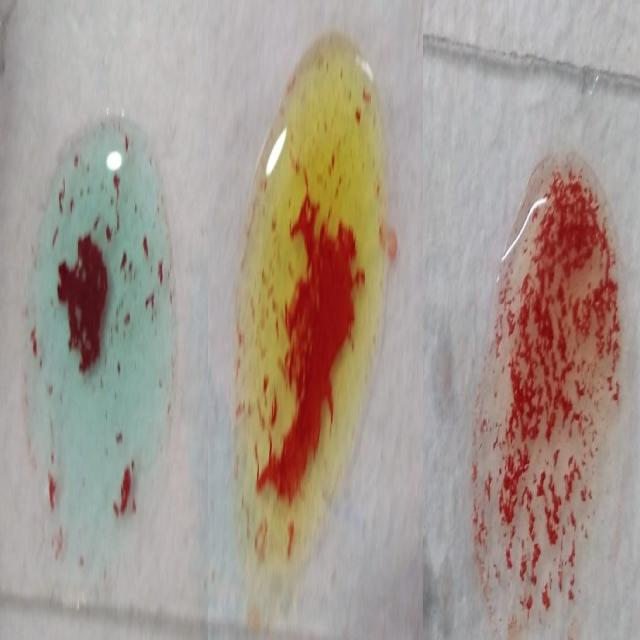A: (23, 137, 178, 596)
B: (239, 27, 386, 562)
D: (471, 148, 620, 634)
